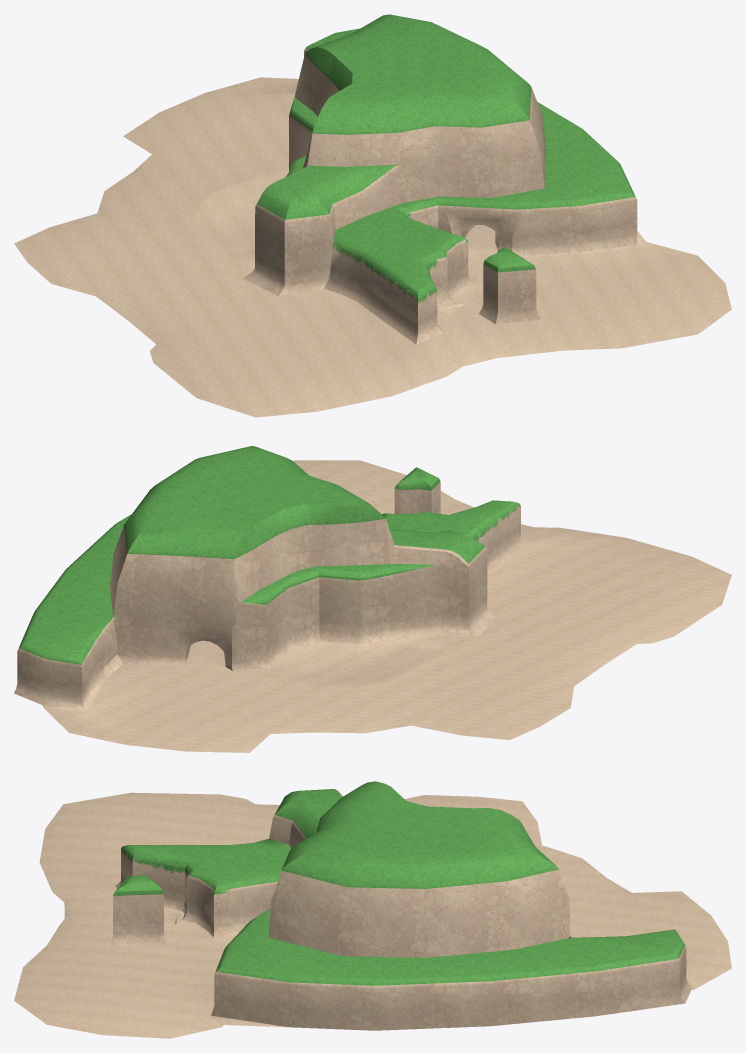
File: tubby_island_wip.glb
3 views of the same model, one above another, from view 1: azimuth 30°, elevation 25°; view 2: azimuth 150°, elevation 25°; view 3: azimuth 270°, elevation 25° (orthographic). The views are drawn at different scales.
Parts seen in each view (by area): view 1: Plane_0; view 2: Plane_0; view 3: Plane_0.
Part boxes in pixels (bbox=[...]): Plane_0: bbox=[14, 14, 731, 417]; Plane_0: bbox=[14, 446, 731, 752]; Plane_0: bbox=[14, 781, 731, 1038].
Bounding box in the file's own units: 146 × 36.75 × 180.
Materials: 5 (5 with a texture image).
